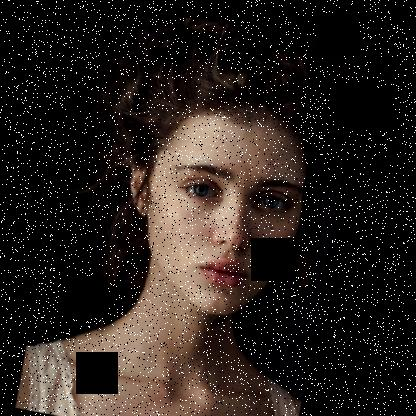Female: (115, 87, 321, 322)
